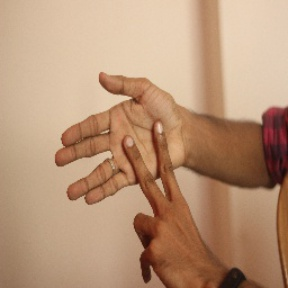N: (52, 74, 205, 256)
